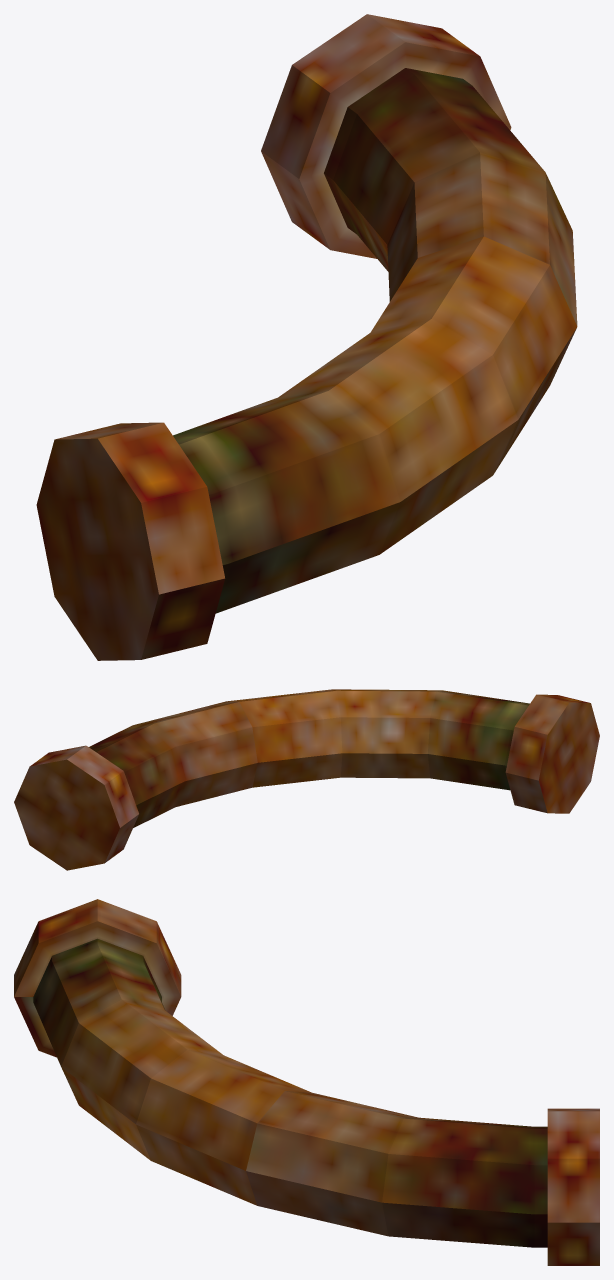
File: MO_PIPE_MEDIUM_02.fbx
3 renders of one model, top to bottom at view 1: azimuth 30°, elevation 25°; view 2: azimuth 150°, elevation 25°; view 3: azimuth 270°, elevation 25°, orthographic. The views are drawn at different scales.
Parts seen in each view (by area): view 1: MO_PIPE_MEDIUM_02; view 2: MO_PIPE_MEDIUM_02; view 3: MO_PIPE_MEDIUM_02.
Part boxes in pixels (x1,y1,x2,y2): MO_PIPE_MEDIUM_02: (36,14,577,660); MO_PIPE_MEDIUM_02: (14,689,599,870); MO_PIPE_MEDIUM_02: (14,899,599,1265).
Size of the model in its own units: 1.4 by 0.4 by 1.4.
